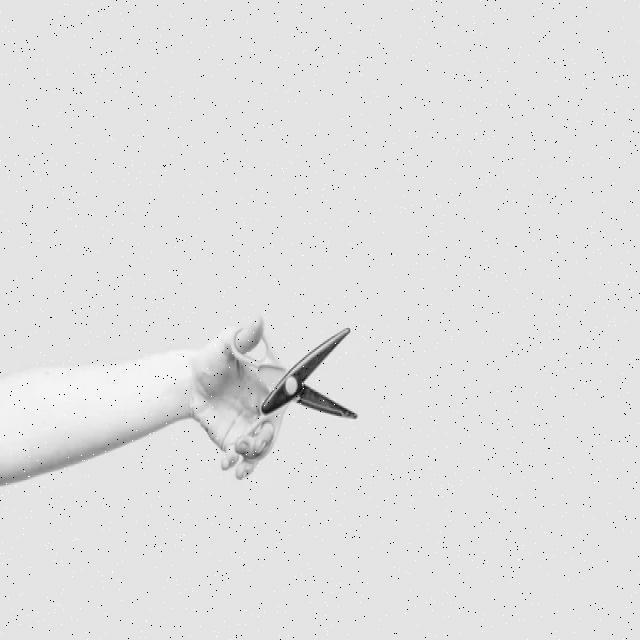scissors: (226, 318, 360, 464)
